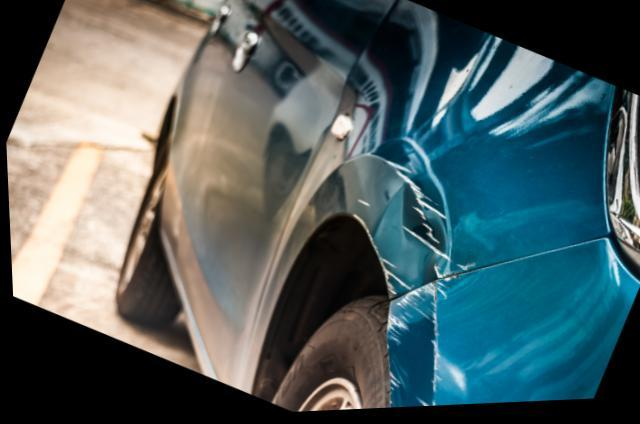scratch: (349, 163, 475, 305), (382, 275, 475, 411)
